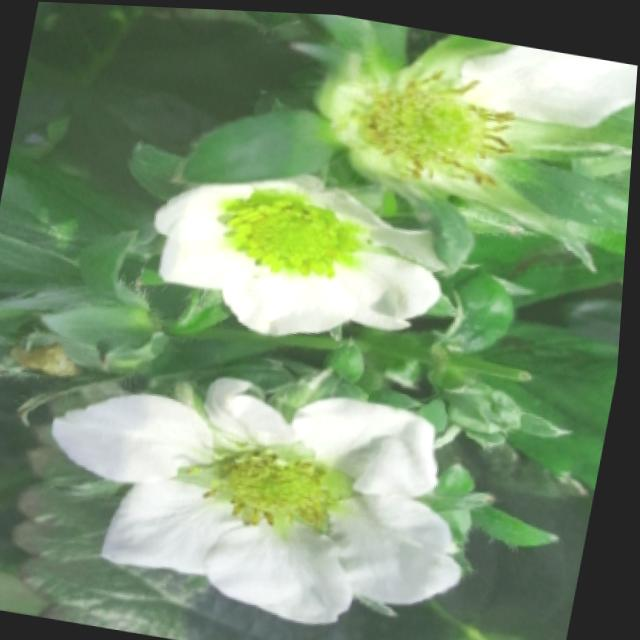Blossom Blight: (330, 59, 522, 190), (177, 434, 380, 545)
